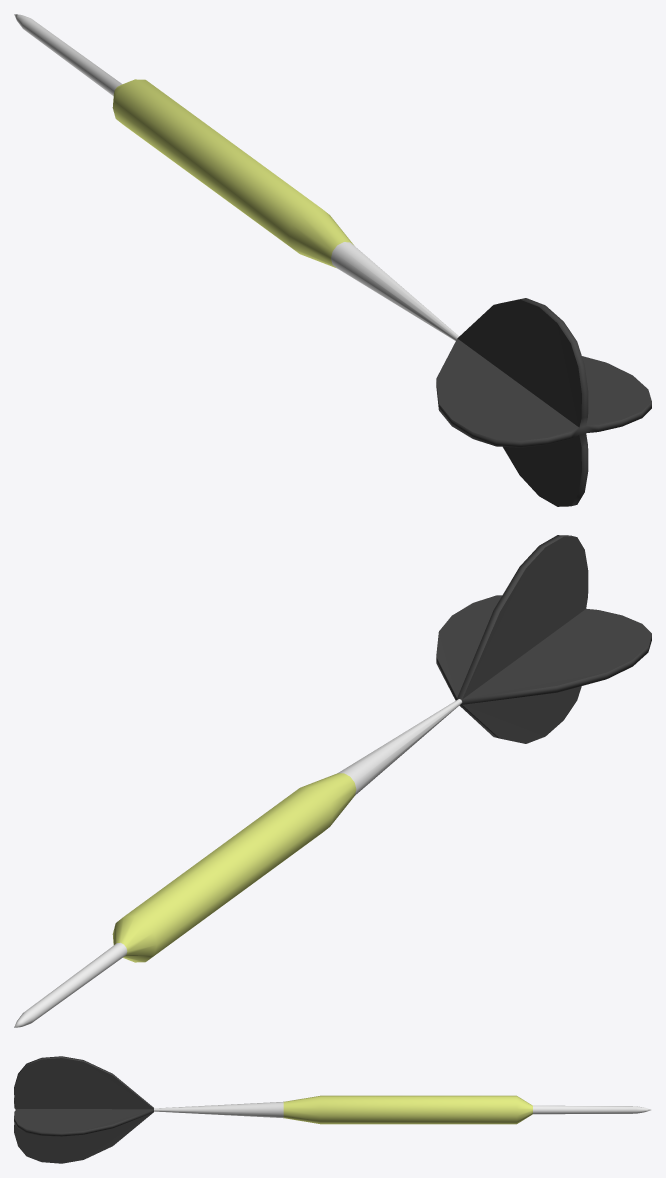
Rendered from dart.fbx.
The picture shows the model from 3 angles, top to bottom: view 1: azimuth 30°, elevation 25°; view 2: azimuth 150°, elevation 25°; view 3: azimuth 270°, elevation 25°; orthographic projection. The views are drawn at different scales.
Parts seen in each view (by area): view 1: Dart; view 2: Dart; view 3: Dart.
Boxes of the visible parts, x1=… form: Dart: x1=14, y1=14, x2=651, y2=506; Dart: x1=14, y1=535, x2=651, y2=1027; Dart: x1=14, y1=1056, x2=650, y2=1163.
Size of the model in its own units: 3 by 3 by 16.4.
